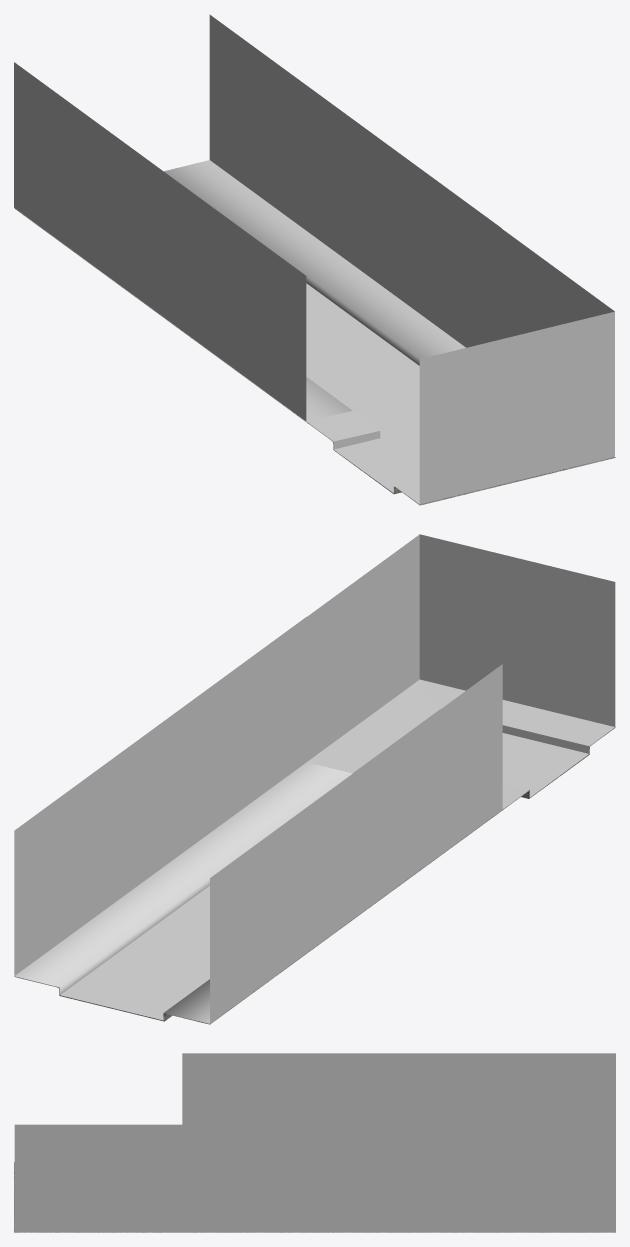
The model's file is street_pieces.FBX.
The picture shows the model from 3 angles, top to bottom: view 1: azimuth 30°, elevation 25°; view 2: azimuth 150°, elevation 25°; view 3: azimuth 270°, elevation 25°; orthographic projection. The views are drawn at different scales.
Parts seen in each view (by area): view 1: street_5, street_corner; view 2: street_5, street_corner, street_geo; view 3: street_5, street_corner, street_geo.
Boxes of the visible parts, x1,y1,x2,y2 form: street_5: [14, 14, 501, 421]; street_corner: [306, 229, 614, 504]; street_5: [14, 617, 502, 1023]; street_corner: [306, 534, 615, 808]; street_geo: [14, 810, 501, 1024]; street_5: [182, 1053, 615, 1231]; street_corner: [14, 1124, 182, 1231]; street_geo: [183, 1232, 615, 1232].
Bounding box in the file's own units: 3.88 × 2.92 × 13.9.
